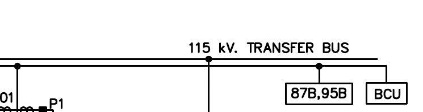BCU: (365, 82, 408, 105)
